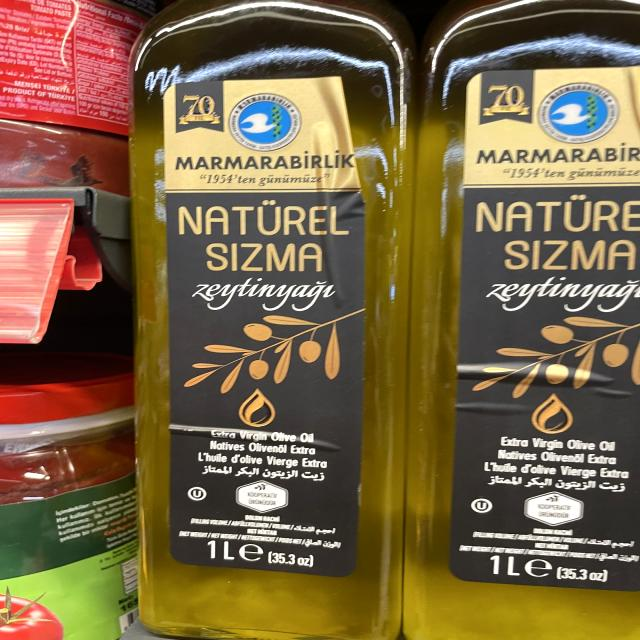olive oil: (122, 0, 410, 639), (416, 3, 640, 640)
